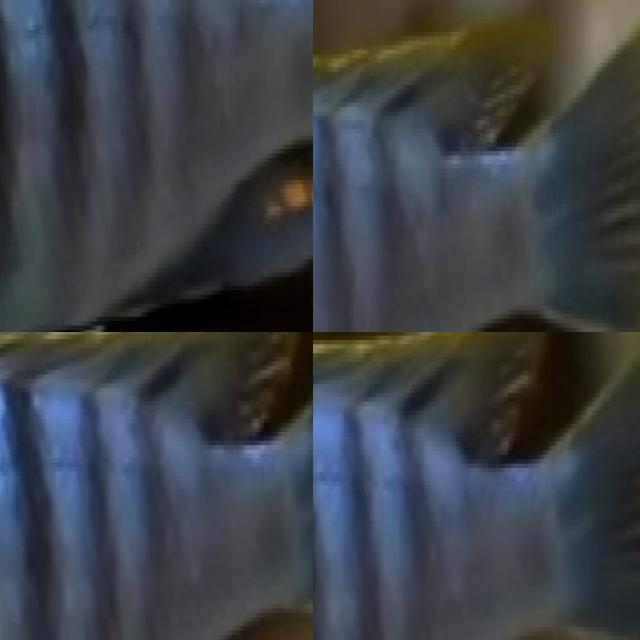fish: (313, 0, 640, 332), (0, 0, 313, 332)
